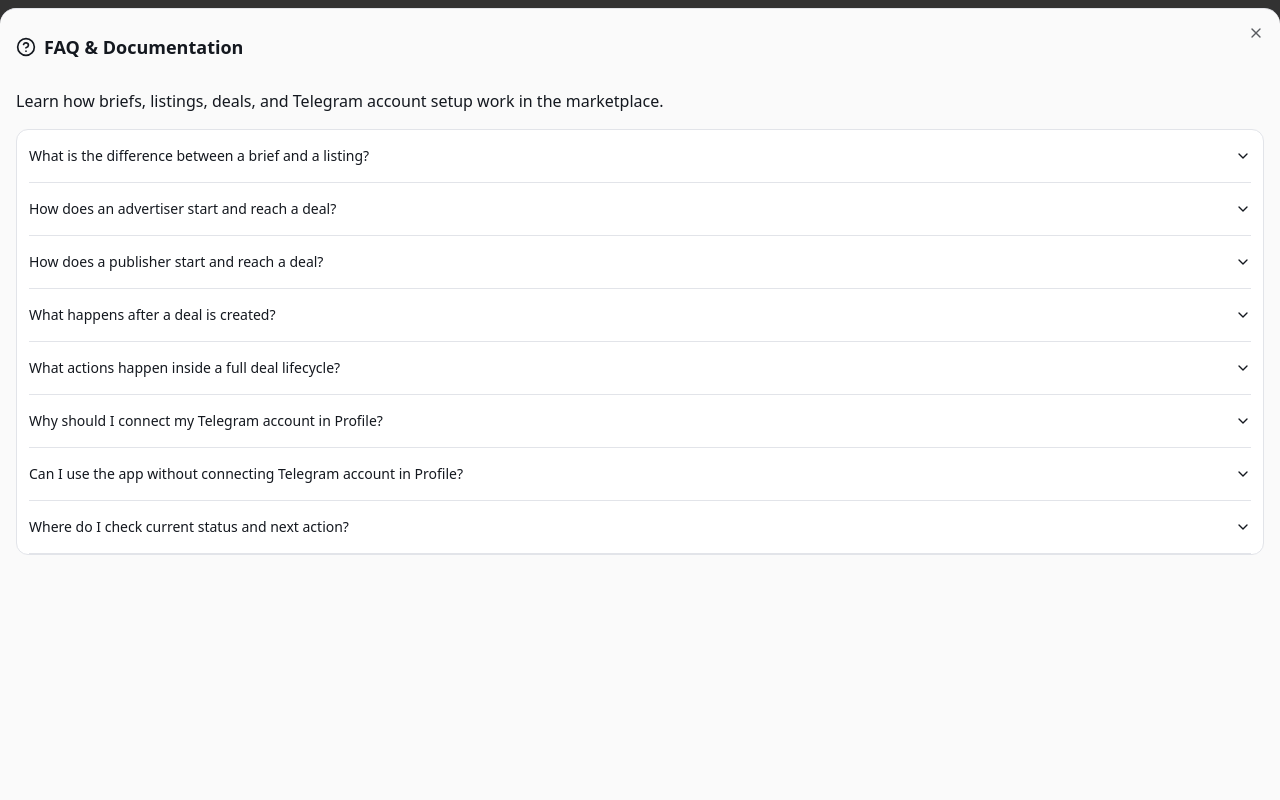
ProfileFaqSheet › expands an FAQ item and shows Telegram recommendation copy
Click the button "Why should I connect my Telegram account in Profile?" at (206, 420), box [29,395,1251,447]
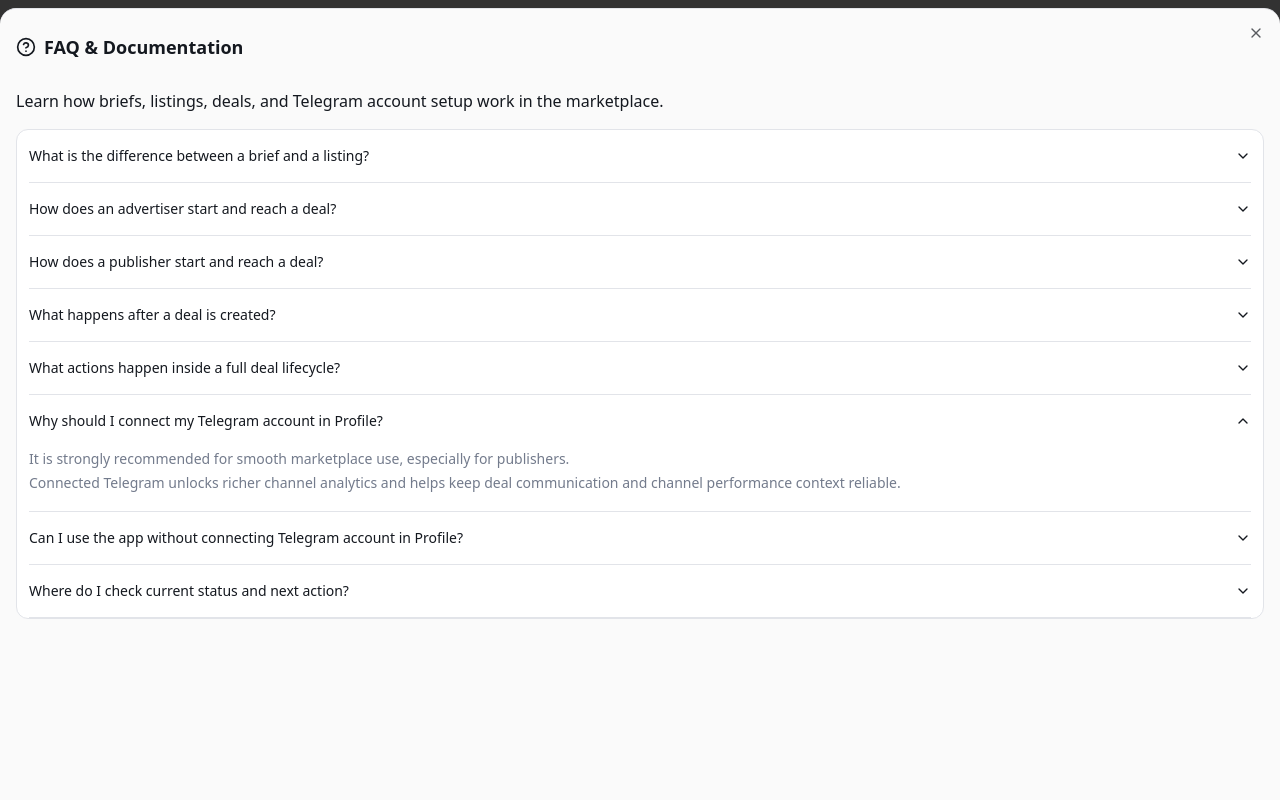
Now the text "strongly recommended for smooth marketplace use" is shown, box [29,449,901,492]
